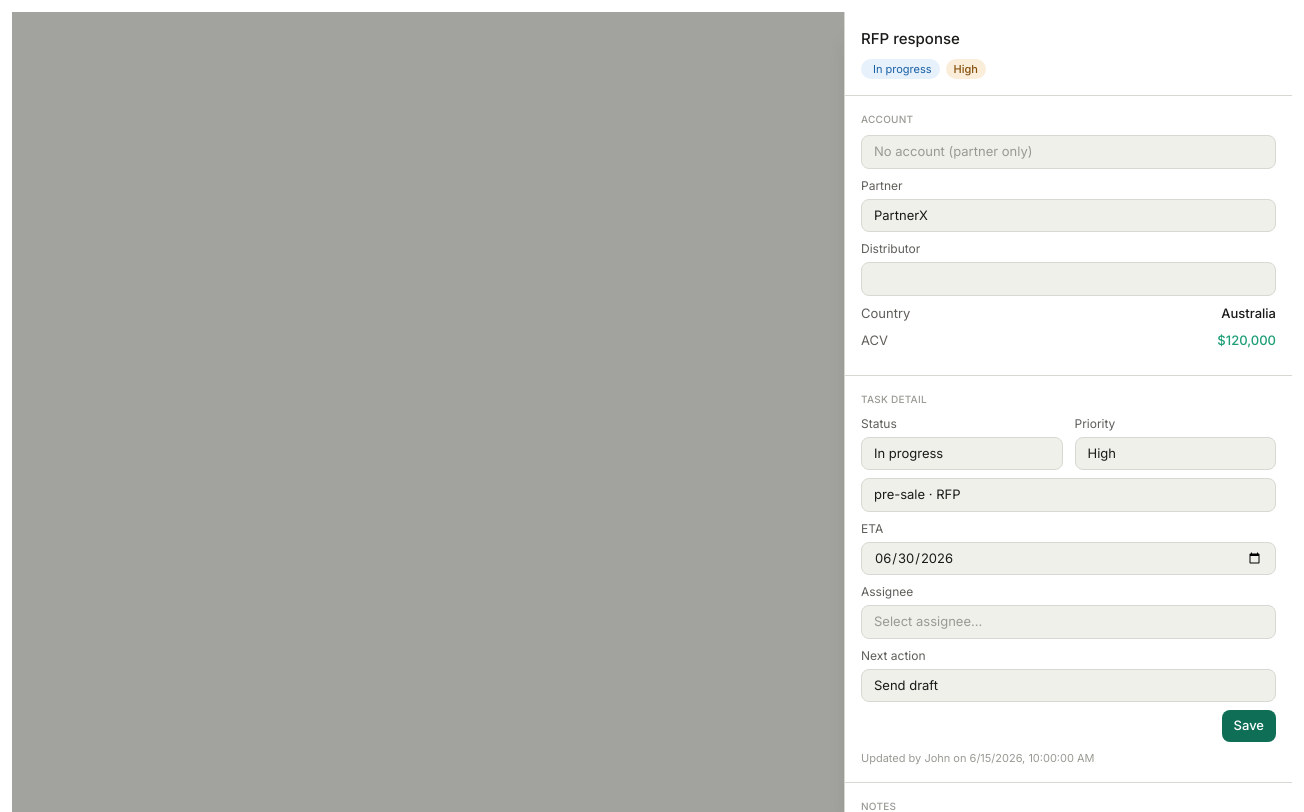
Test: TaskSidePanel › keeps the task's own type selectable even after it is deactivated, but excludes other inactive types
Click the button "pre-sale · RFP": (917, 494) left=861, top=478, right=1276, bottom=512
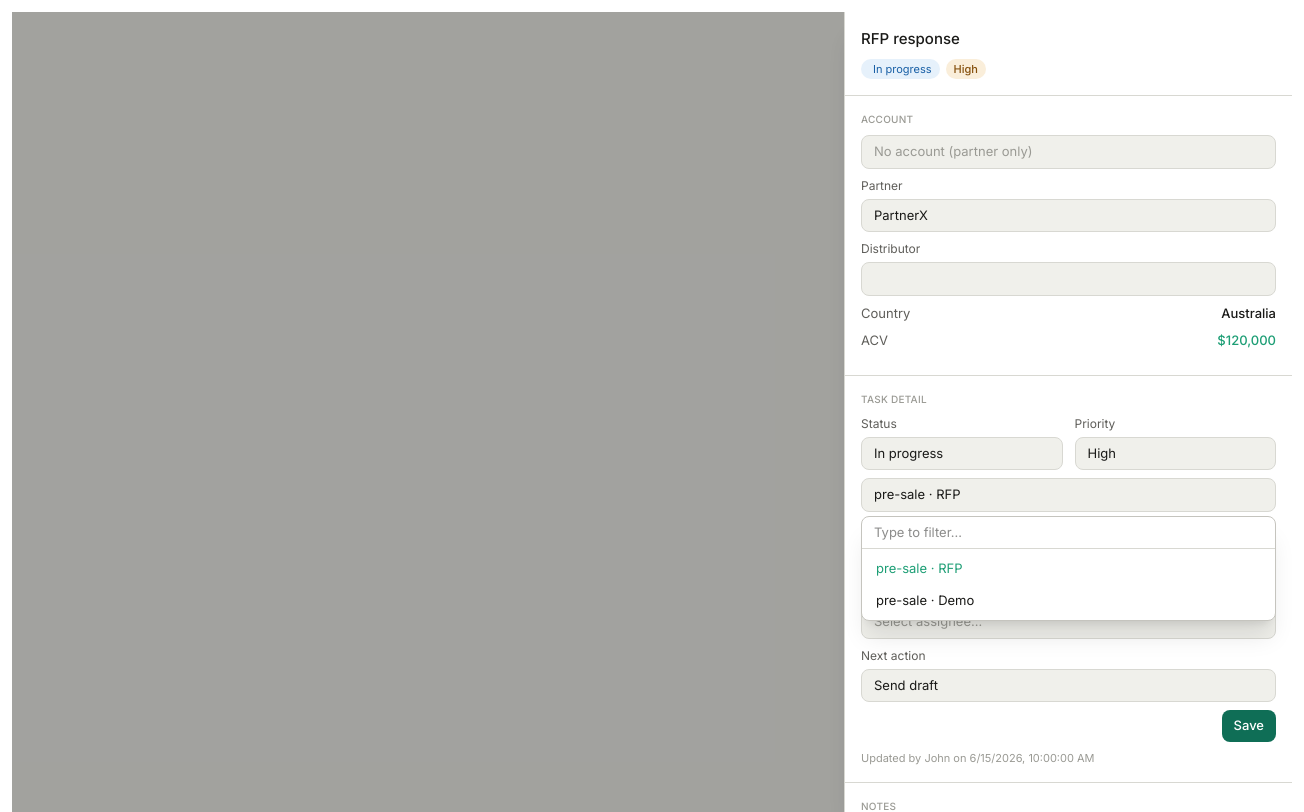
Check: the button "pre-sale · Demo" is shown, box left=866, top=584, right=1271, bottom=616
